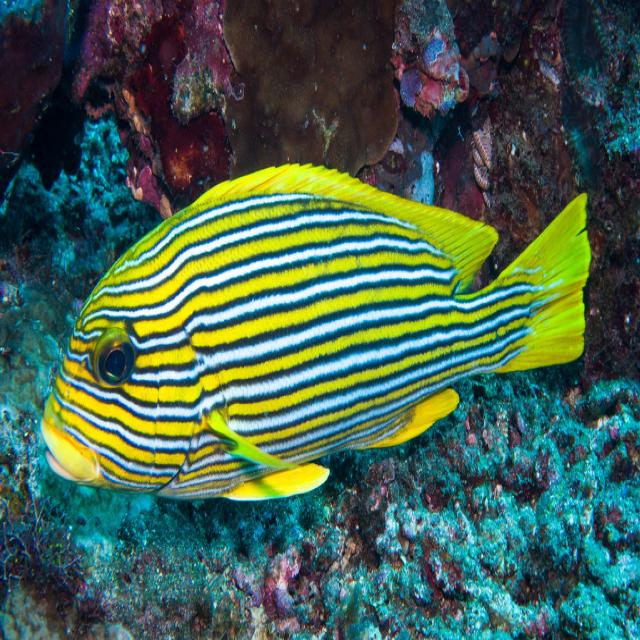RibbonedSweetlips: (38, 159, 592, 504)
